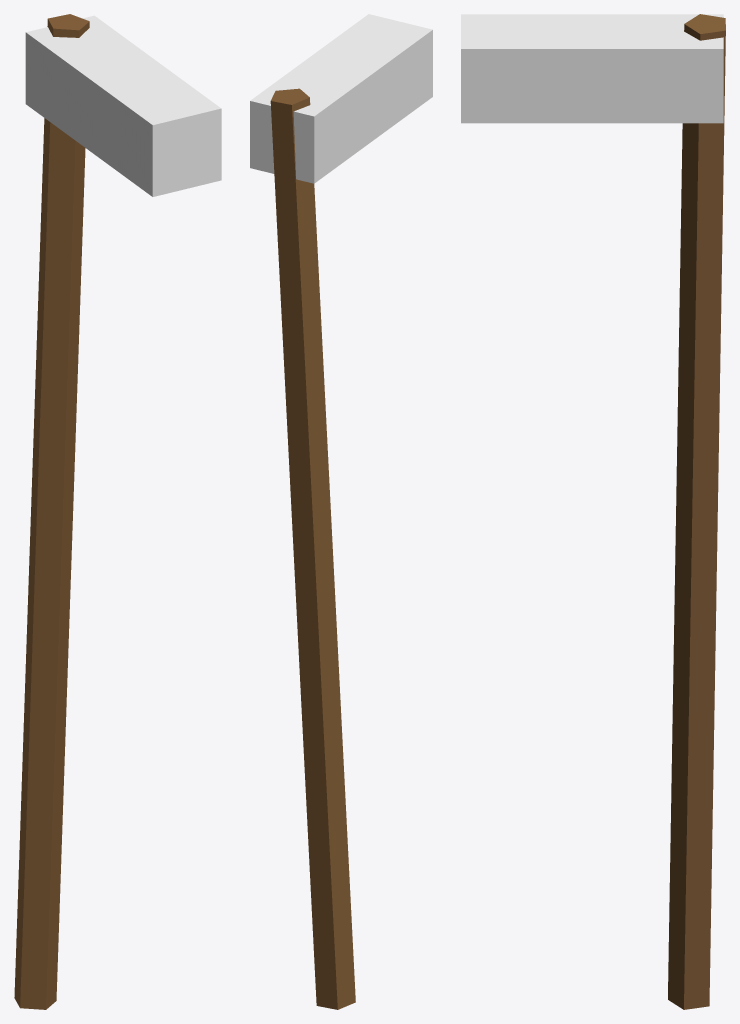
File: tool_hoe.glb
The picture shows the model from 3 angles, left to right: view 1: azimuth 30°, elevation 25°; view 2: azimuth 150°, elevation 25°; view 3: azimuth 270°, elevation 25°; orthographic projection. The views are drawn at different scales.
Parts seen in each view (by area): view 1: part, part.001; view 2: part, part.001; view 3: part, part.001.
Boxes of the visible parts, left/top/right/bottom form: part: left=14, top=14, right=89, bottom=1009; part.001: left=25, top=15, right=221, bottom=196; part: left=270, top=88, right=355, bottom=1009; part.001: left=250, top=14, right=432, bottom=183; part: left=668, top=14, right=725, bottom=1009; part.001: left=461, top=14, right=723, bottom=123.
Bounding box in the file's own units: 0.0683 × 0.6712 × 0.1614.
